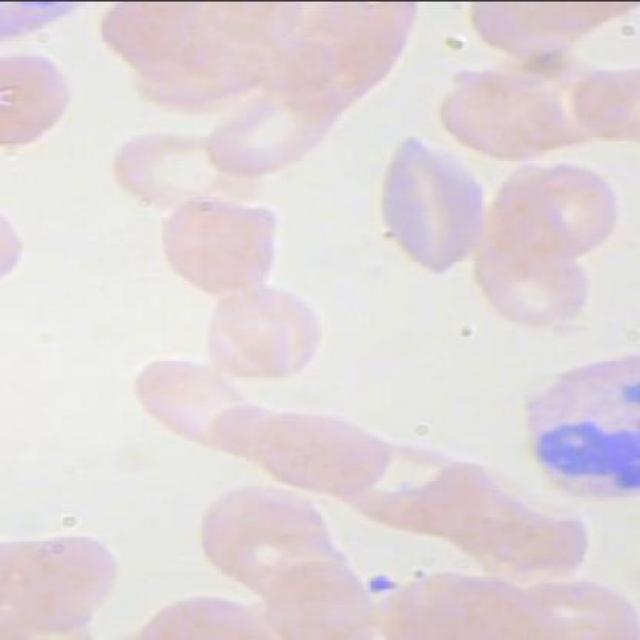Platelets: (365, 567, 401, 596)
RBC: (372, 130, 491, 284), (436, 68, 586, 172), (115, 123, 268, 223), (348, 436, 490, 539), (257, 396, 395, 496), (136, 352, 255, 454), (207, 281, 325, 382), (478, 228, 596, 329), (508, 158, 626, 259), (262, 544, 386, 638), (165, 193, 282, 290), (21, 530, 125, 635), (511, 568, 640, 638), (1, 48, 84, 150), (309, 1, 426, 68), (100, 1, 217, 68)
WBC: (511, 352, 638, 505)
